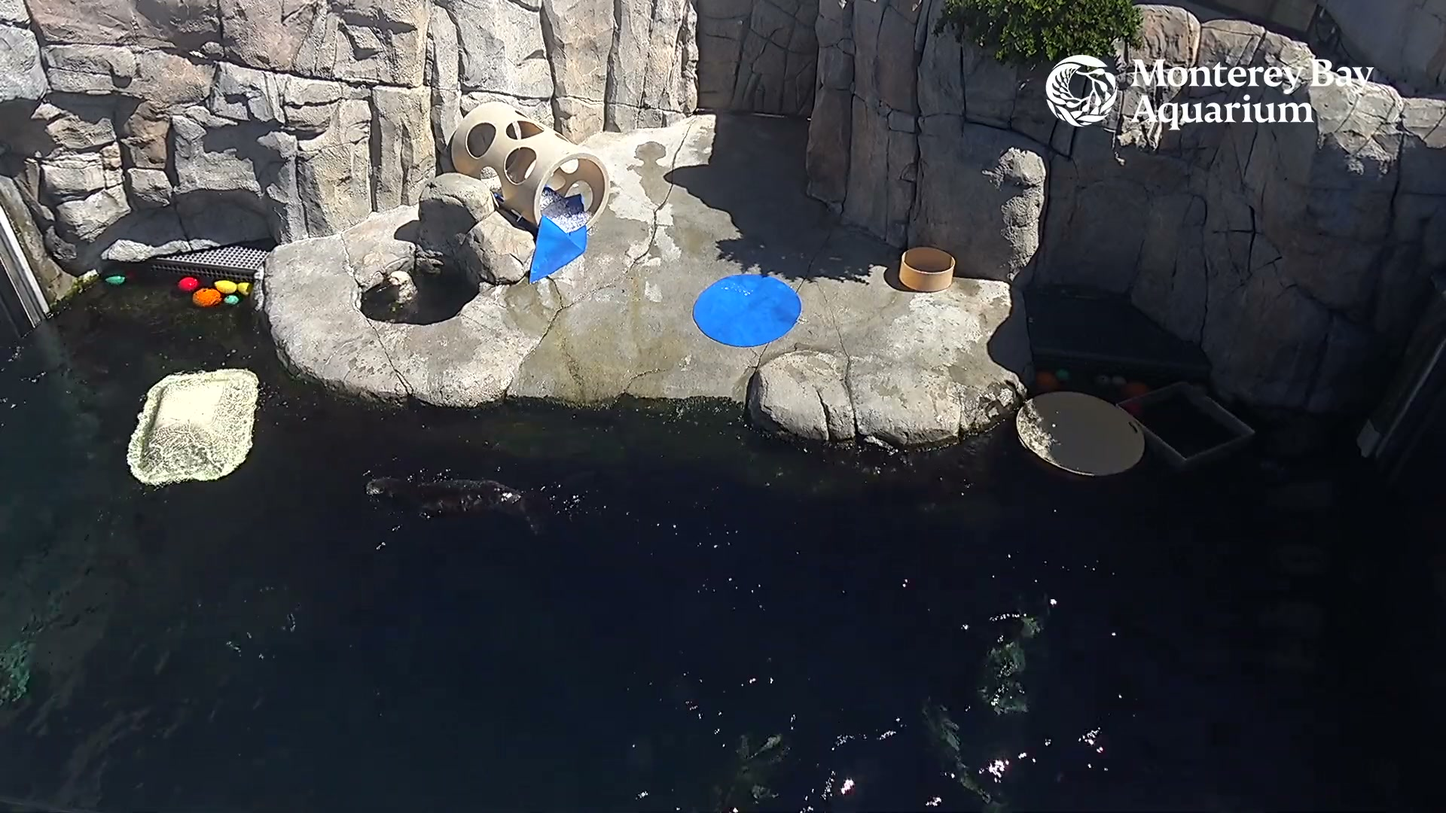Southern Sea Otter: (387, 248, 443, 370)
